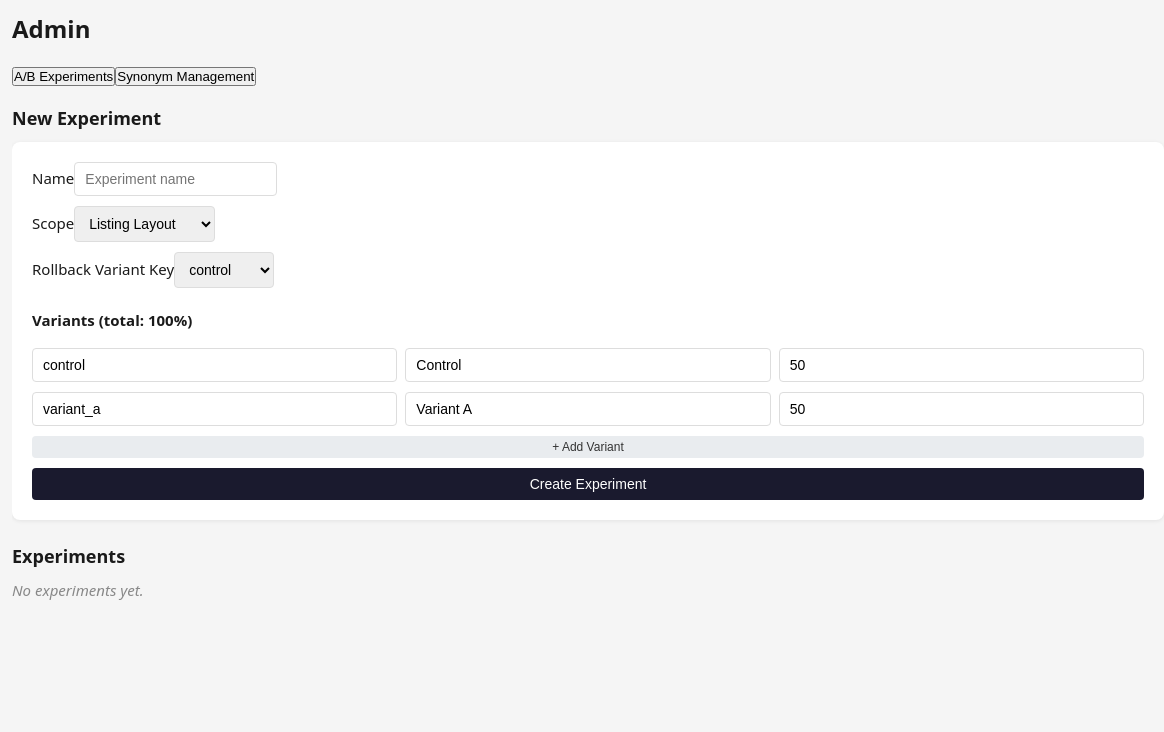
AdminPage — ExperimentsPanel create › shows error when createExperiment rejects
Expected: the heading "New Experiment" is shown, top-left (12, 106), bottom-right (161, 130)
In the field with placeholder "Experiment name": (176,179) top-left (74, 162), bottom-right (277, 196), type "Taken Name"
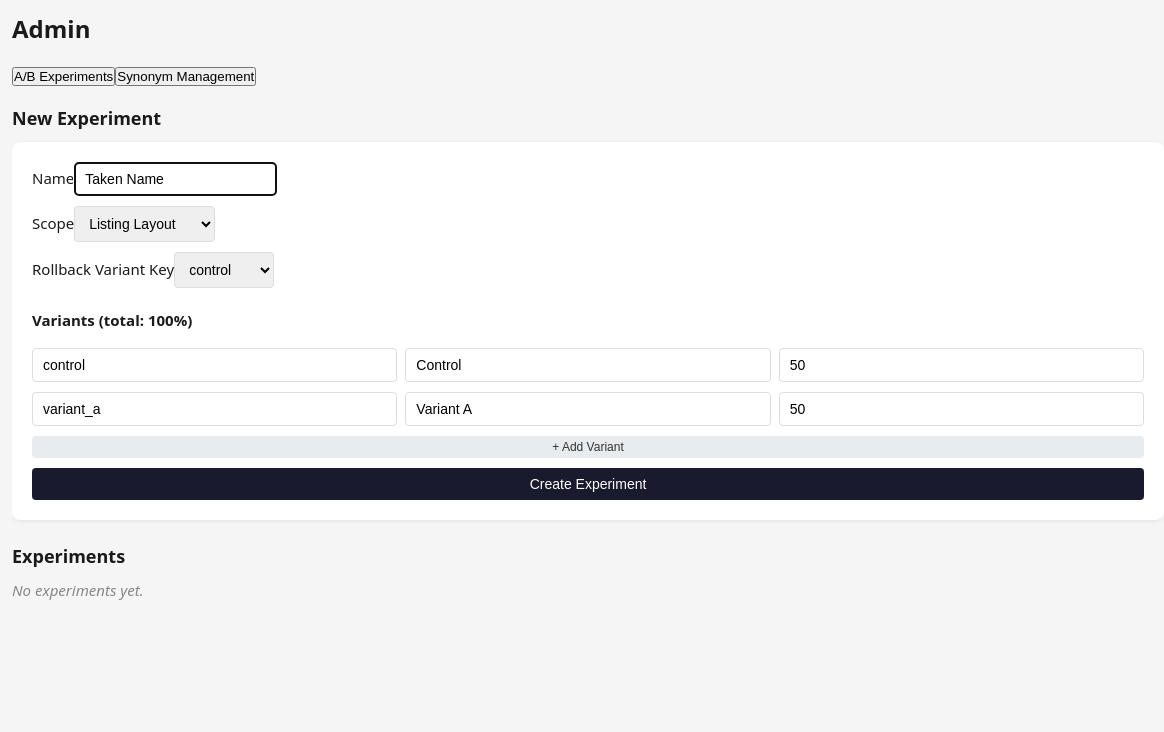
Click the button "Create Experiment": (588,484) top-left (32, 468), bottom-right (1144, 500)
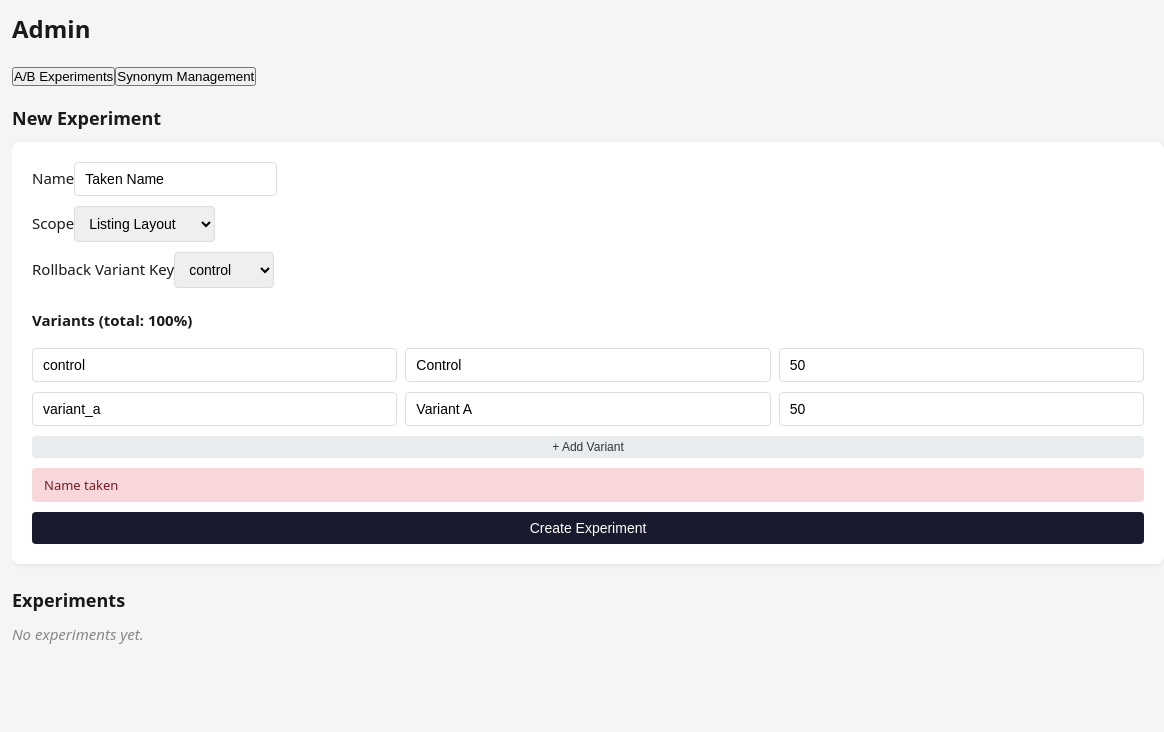
Now the text "Name taken" is shown, box top-left (32, 468), bottom-right (1144, 502)
